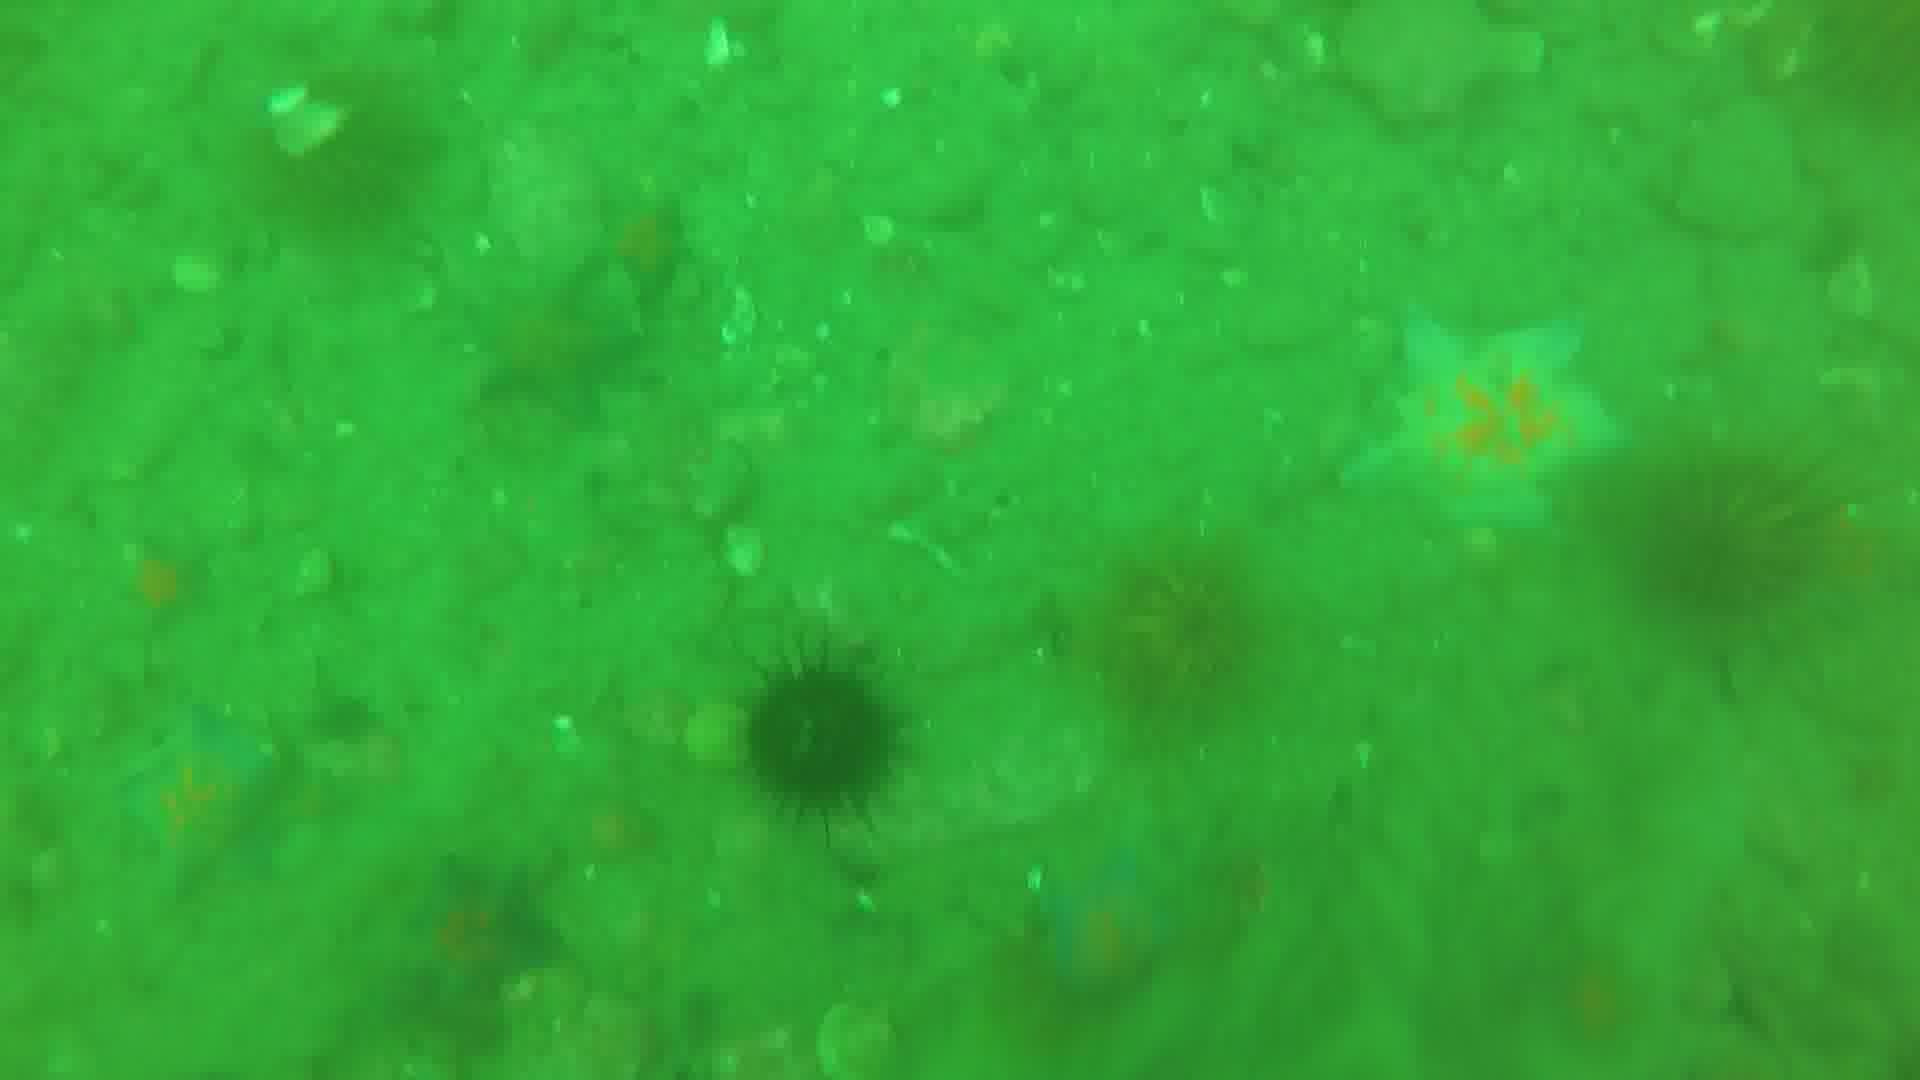echinus: (1647, 450, 1847, 636), (736, 642, 911, 843), (1113, 535, 1273, 752)
scallop: (255, 92, 357, 156)
starfish: (1336, 299, 1625, 553), (115, 702, 276, 911), (1034, 843, 1200, 1007), (462, 270, 640, 406), (415, 862, 564, 1015)
